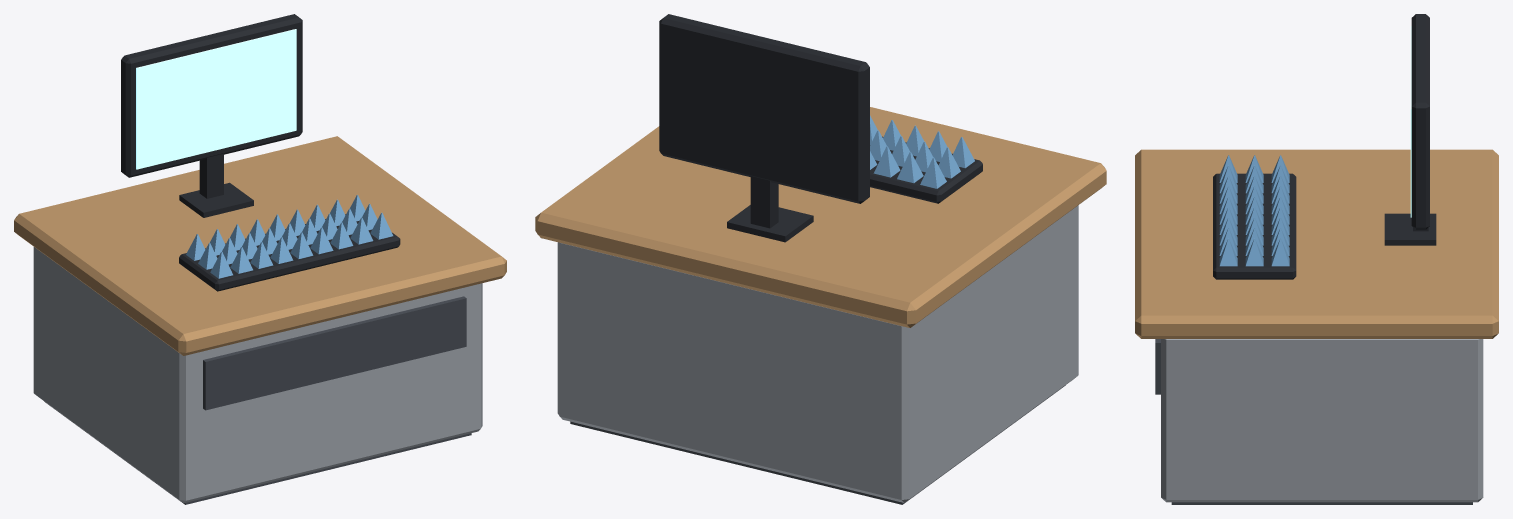
The model's file is keyboardsmash_p1_3.glb.
3 views of the same model, side by side, from view 1: azimuth 30°, elevation 25°; view 2: azimuth 150°, elevation 25°; view 3: azimuth 270°, elevation 25° (orthographic). The views are drawn at different scales.
Parts seen in each view (by area): view 1: keyboardsmash_p1_3_mesh_Desk, keyboardsmash_p1_3_mesh; view 2: keyboardsmash_p1_3_mesh_Desk, keyboardsmash_p1_3_mesh; view 3: keyboardsmash_p1_3_mesh_Desk, keyboardsmash_p1_3_mesh.
Part boxes in pixels (left/top/right/bottom): keyboardsmash_p1_3_mesh_Desk: left=14, top=136, right=506, bottom=504; keyboardsmash_p1_3_mesh: left=121, top=14, right=400, bottom=291; keyboardsmash_p1_3_mesh_Desk: left=535, top=107, right=1106, bottom=504; keyboardsmash_p1_3_mesh: left=659, top=14, right=982, bottom=242; keyboardsmash_p1_3_mesh_Desk: left=1135, top=149, right=1498, bottom=504; keyboardsmash_p1_3_mesh: left=1213, top=14, right=1436, bottom=279.
Bounding box in the file's own units: 0.78 × 0.79 × 0.7.
